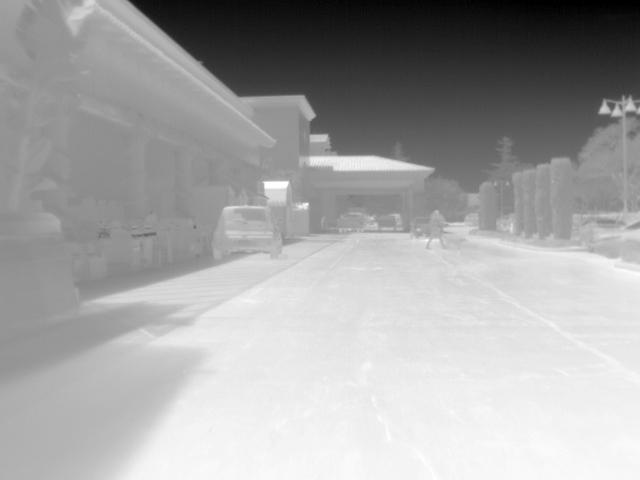car: (211, 206, 286, 262), (588, 219, 640, 259), (580, 218, 628, 244), (338, 212, 364, 231), (411, 218, 431, 238), (376, 212, 399, 229)
person: (424, 208, 450, 252)
